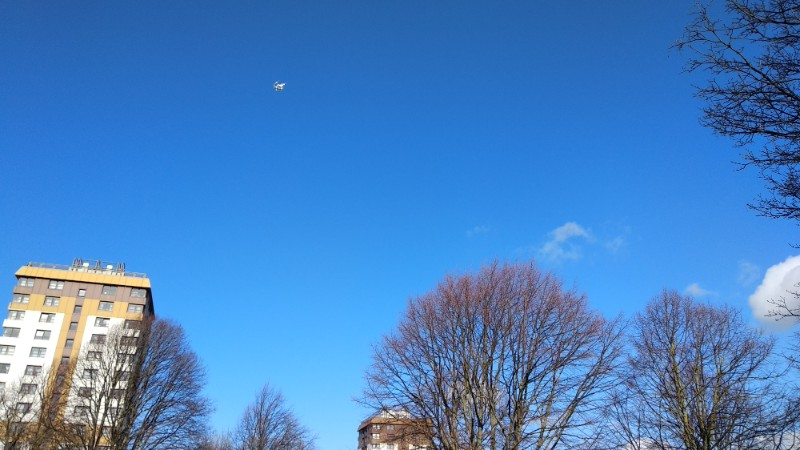drone: (272, 79, 287, 92)
